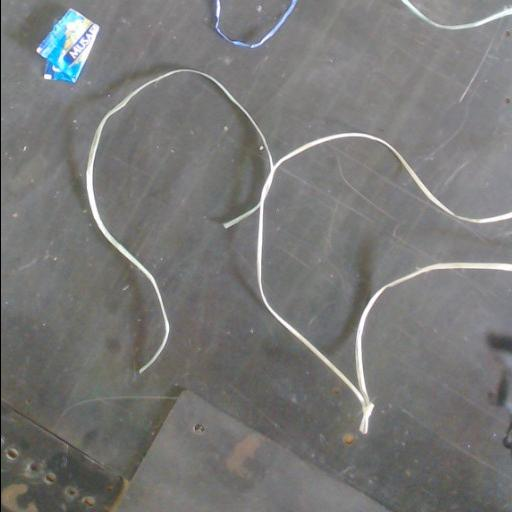conveyor belt: (1, 0, 512, 511), (263, 140, 512, 382), (221, 0, 290, 41), (410, 0, 512, 24)
packet: (36, 10, 98, 82)
thread: (85, 68, 512, 433), (213, 0, 296, 48), (400, 0, 512, 29)
